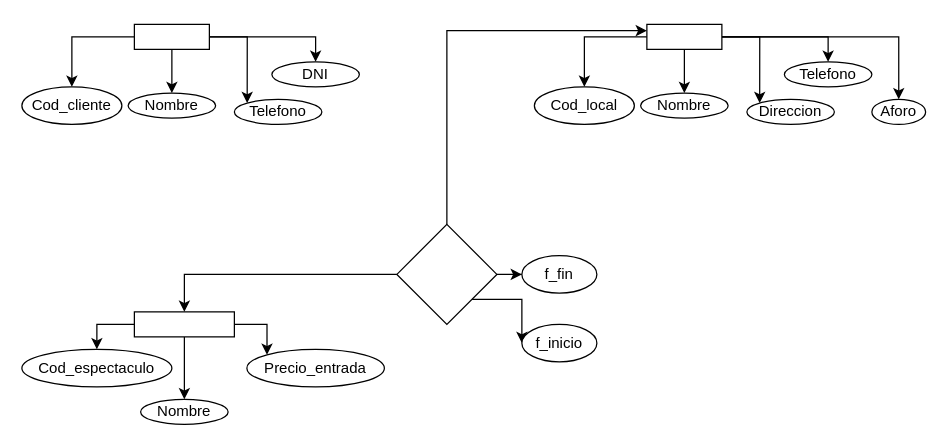
This 948x446 diagram has some shape labels left out. Here are the shapes that lost their labels. From the top down, the centre of each, then its label:
point 171,36: Cliente
point 684,36: Local
point 446,273: Programa
point 183,324: Espectaculo
